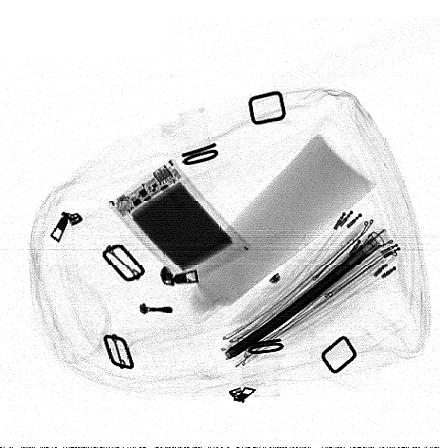Powerbank: (107, 157, 253, 280)
